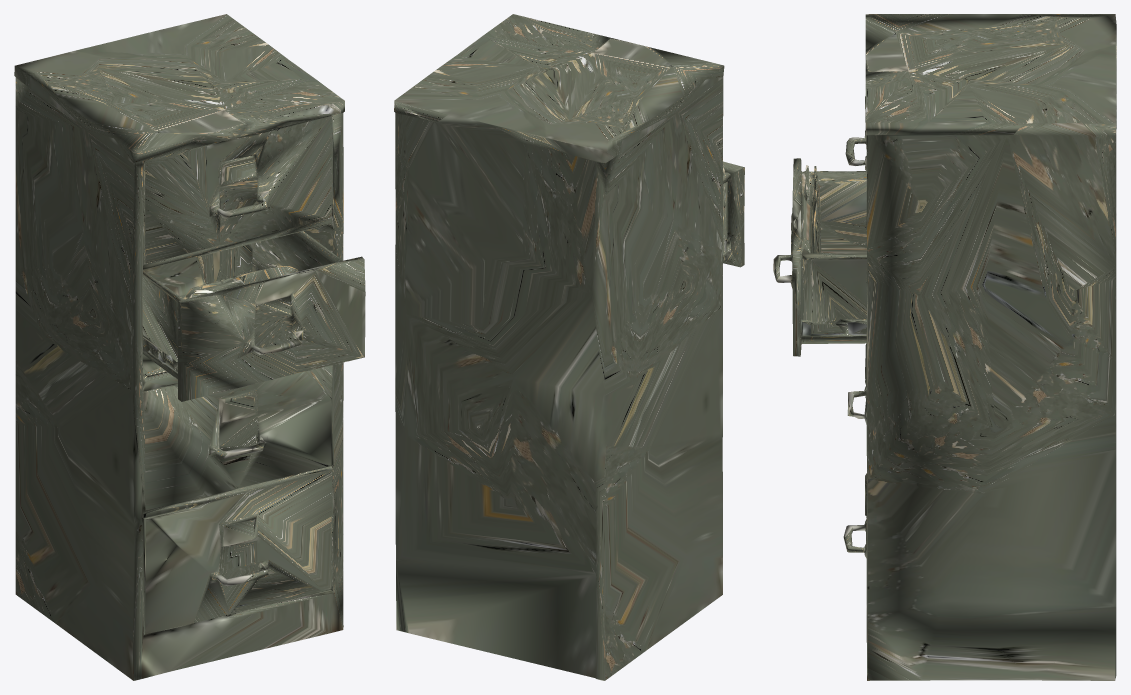
The model's file is filing_cabinet.e36ce00cbc.glb.
3 renders of one model, left to right at view 1: azimuth 30°, elevation 25°; view 2: azimuth 150°, elevation 25°; view 3: azimuth 270°, elevation 25°, orthographic. The views are drawn at different scales.
Parts seen in each view (by area): view 1: filing_cabinet; view 2: filing_cabinet; view 3: filing_cabinet.
Part boxes in pixels (x1,y1,x2,y2): filing_cabinet: [14, 14, 365, 680]; filing_cabinet: [394, 14, 744, 680]; filing_cabinet: [773, 14, 1116, 680].
Size of the model in its own units: 0.5663 by 1.35 by 0.7516.
Materials: 1 (1 with a texture image).
